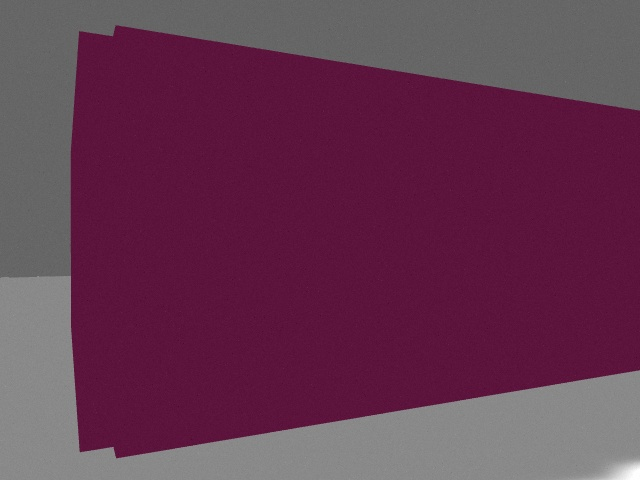red_drop_zone: (71, 25, 640, 458)
